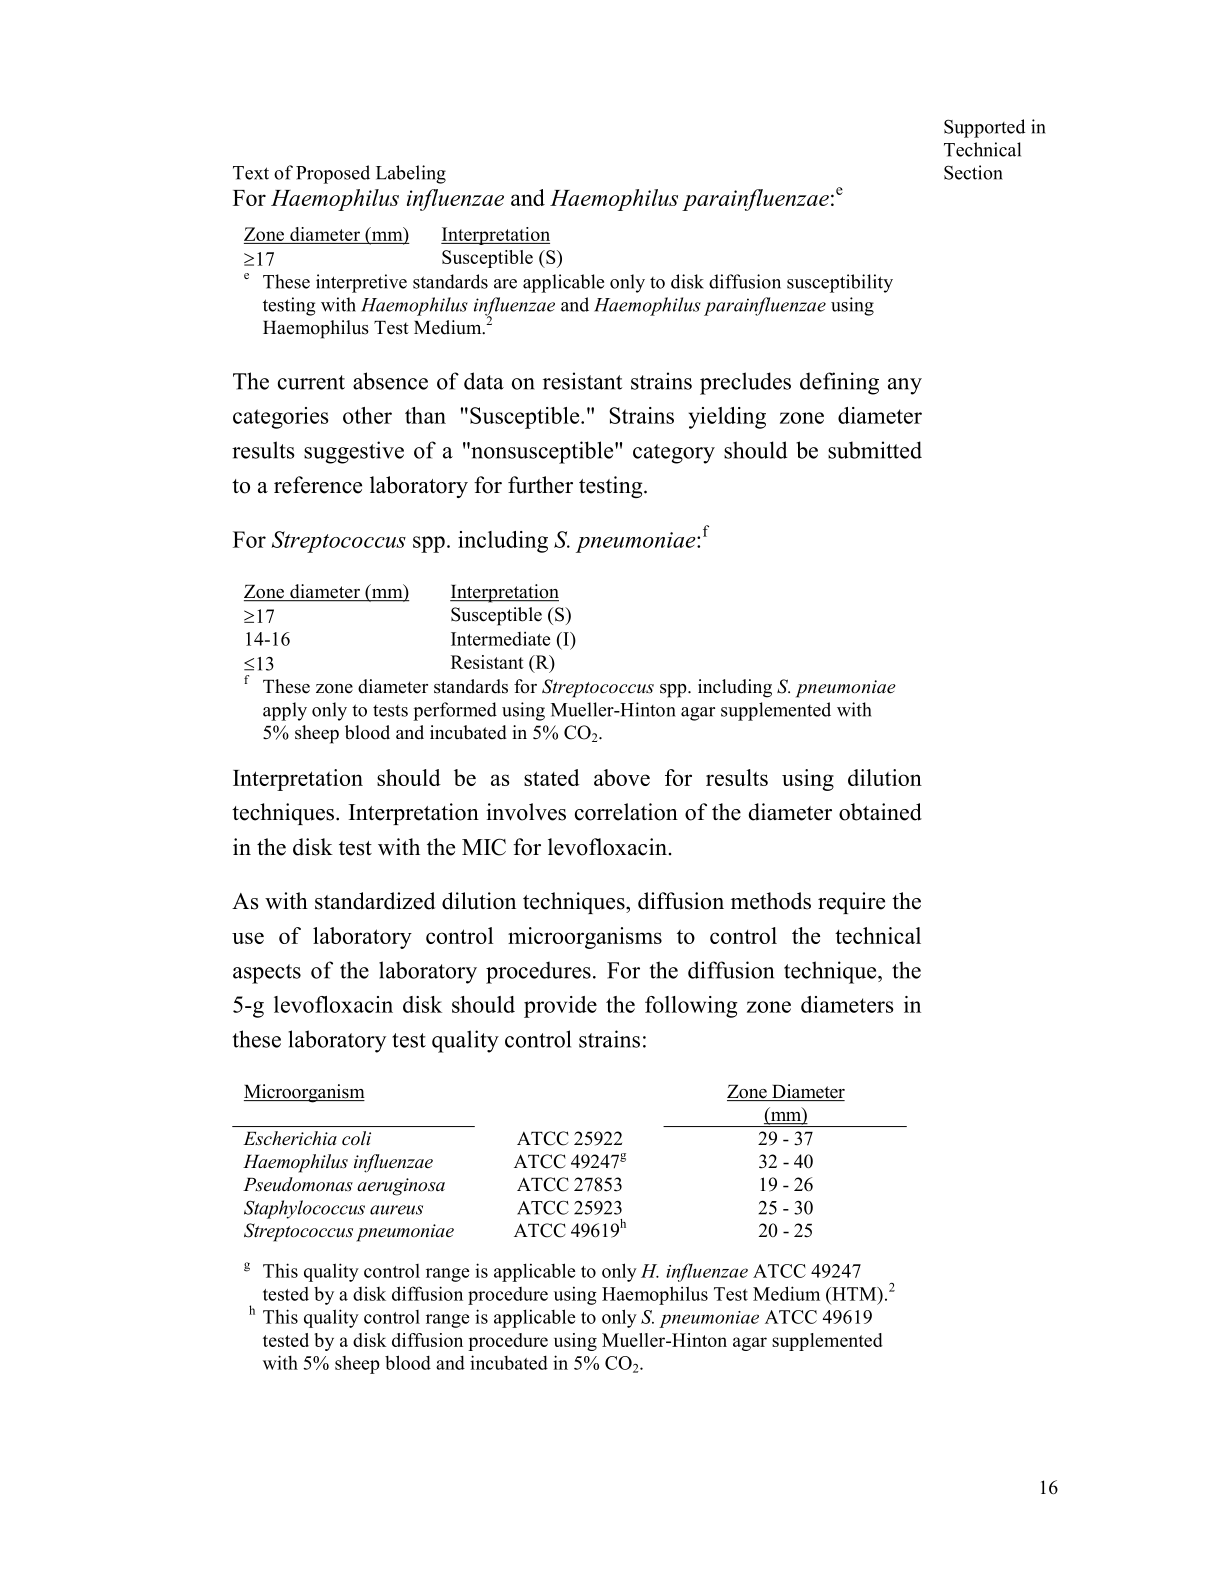nolines: (233, 1083, 909, 1239), (238, 582, 579, 678), (240, 224, 562, 270)
